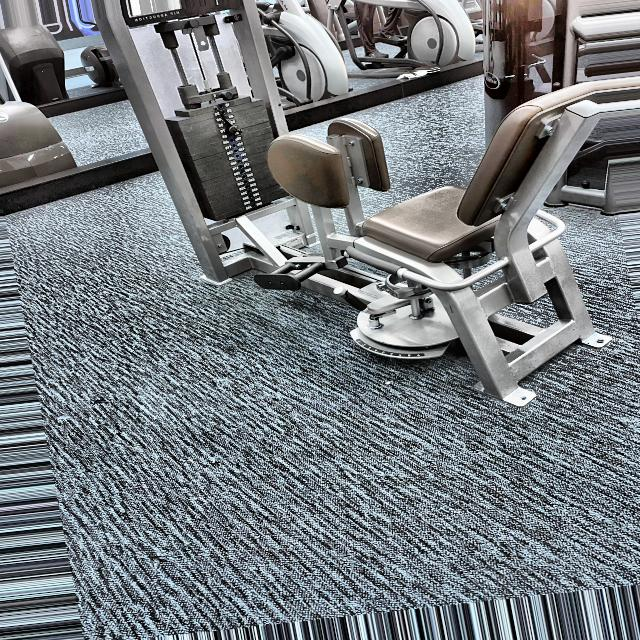hip_adduction_machine: (260, 88, 632, 393), (132, 9, 185, 25)
